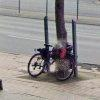bicycles: (27, 43, 76, 82)
